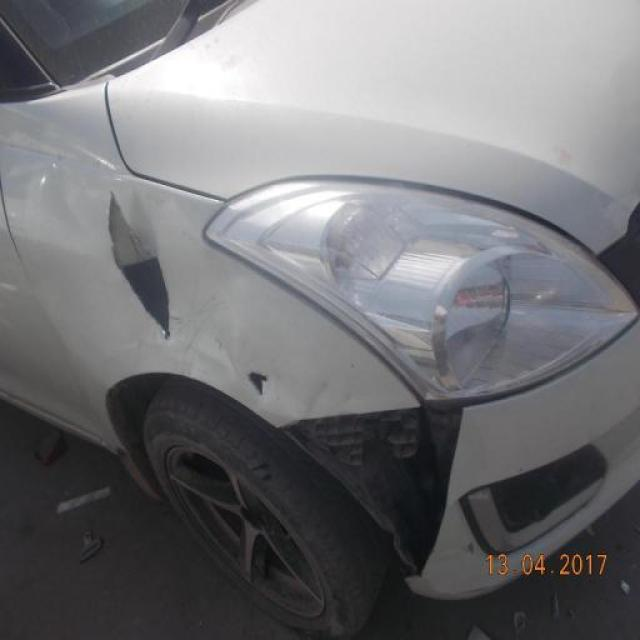missing: (279, 402, 476, 589)
tear: (101, 189, 177, 340), (246, 363, 274, 401)
